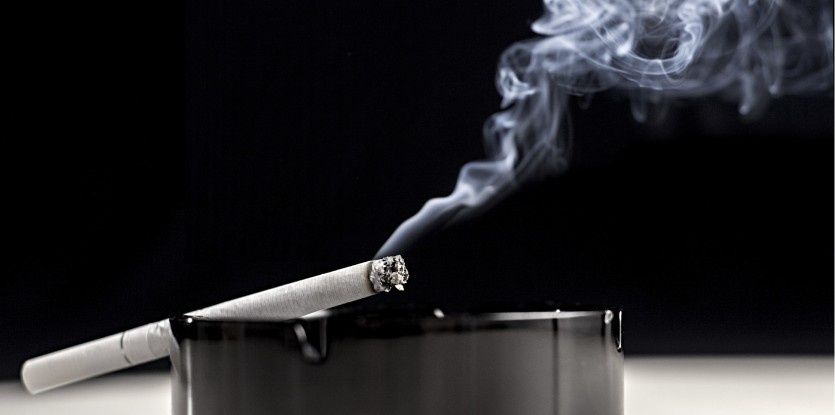sigaretta: (12, 253, 411, 393)
